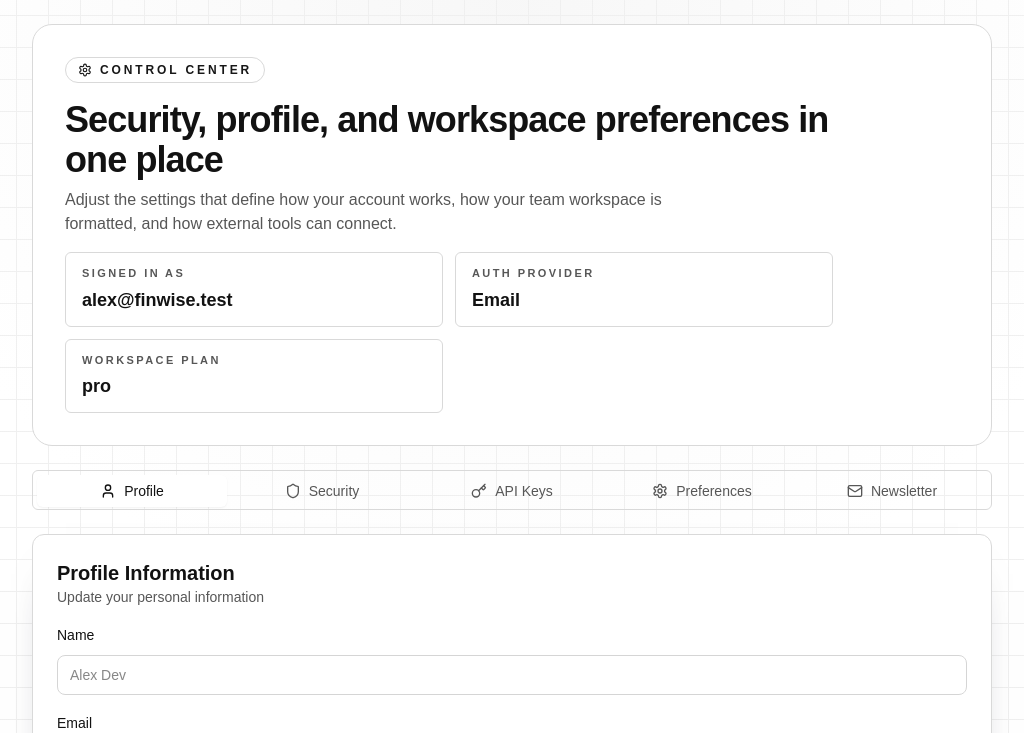
Test case: Settings Page › creates a new API key and updates cache
Click the tab with test id "tab-api-keys" at (512, 491), box x1=417 y1=475 x2=607 y2=507
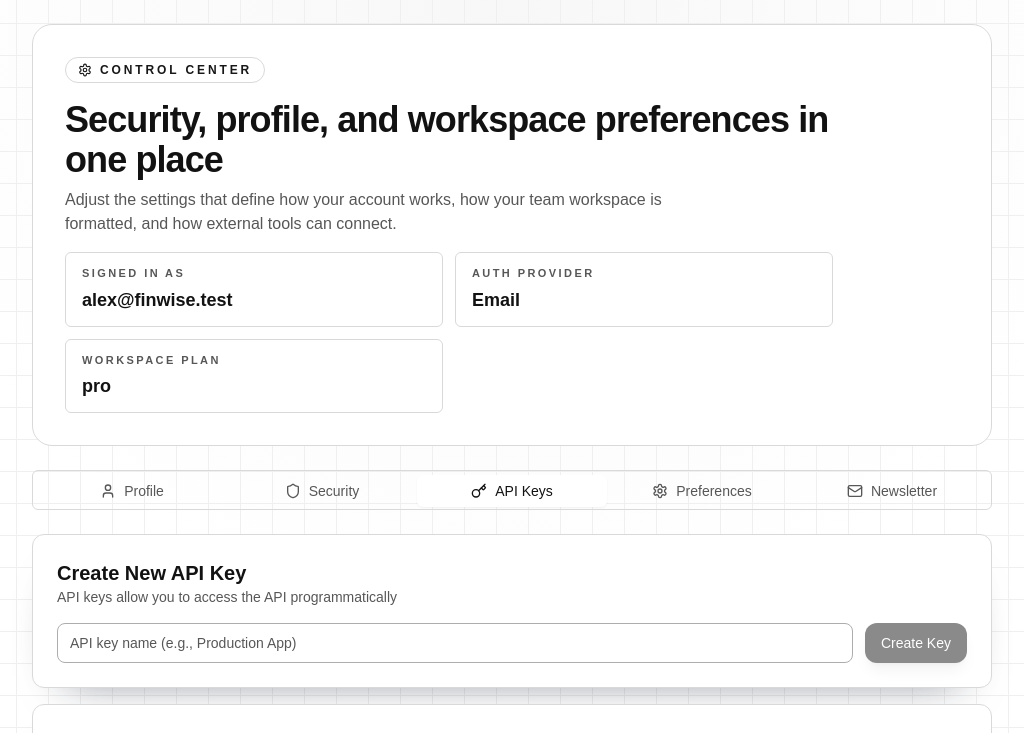
Check: the field with test id "api-key-name-input" is shown
Type "Staging Pipeline" into the field with test id "api-key-name-input" at (455, 643), box x1=57 y1=623 x2=853 y2=663
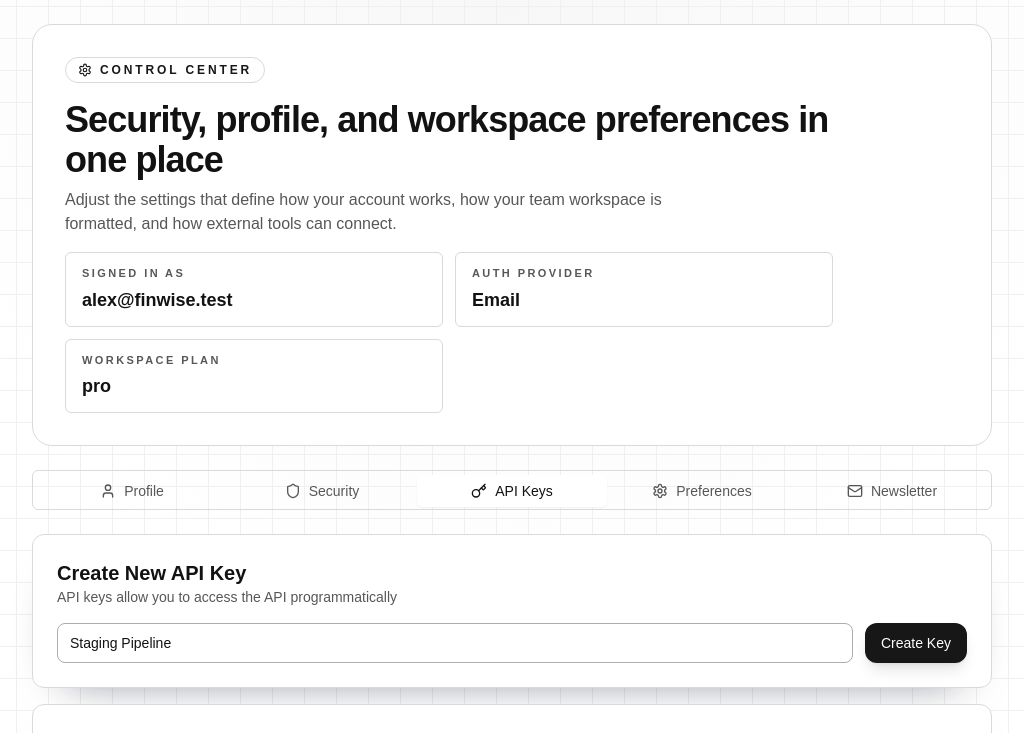
Click the button with test id "create-api-key-btn" at (916, 643), box x1=865 y1=623 x2=967 y2=663
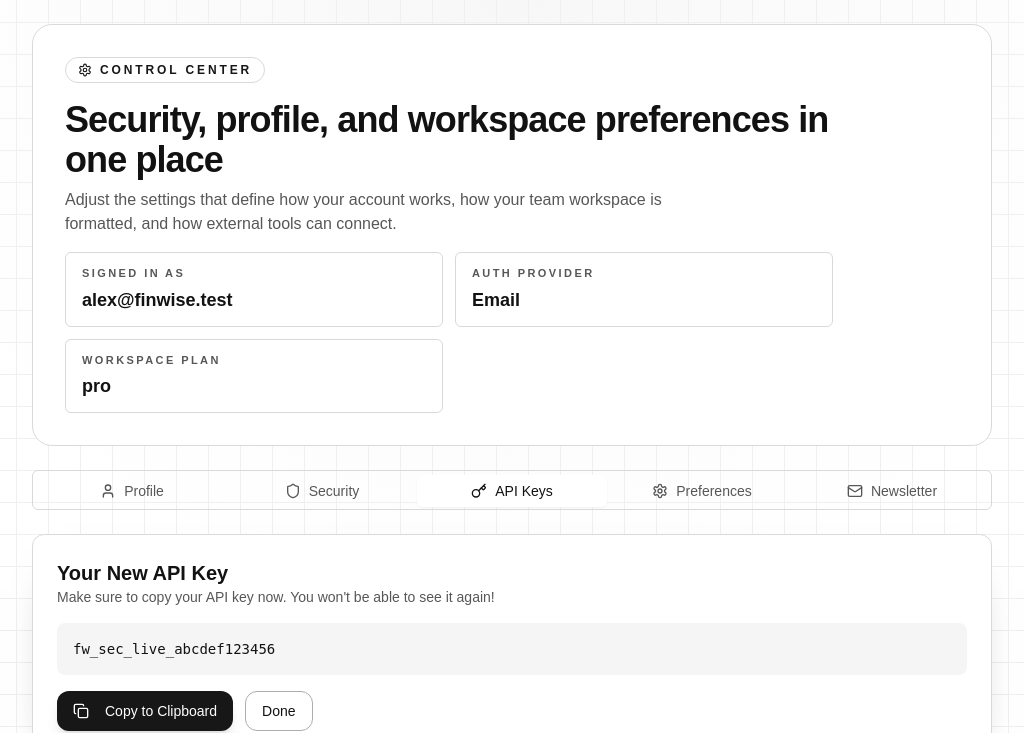
Check: the text "fw_sec_live_abcdef123456" is shown, box x1=57 y1=623 x2=967 y2=675
